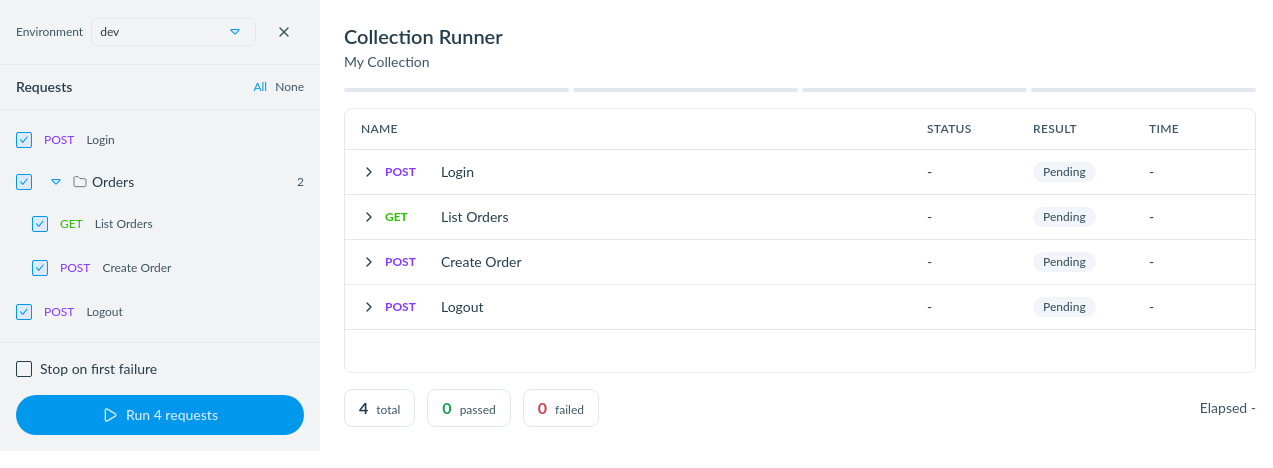
Scenario: CollectionRunner rendering › collapses and expands folder contents in the checklist
The width and height of the screenshot is (1273, 468).
Expected: the text "List Orders" is shown 2 times, left=95, top=216, right=153, bottom=231; left=441, top=207, right=508, bottom=227
Click the button named "Collapse Orders": [56, 182] box left=44, top=170, right=68, bottom=194
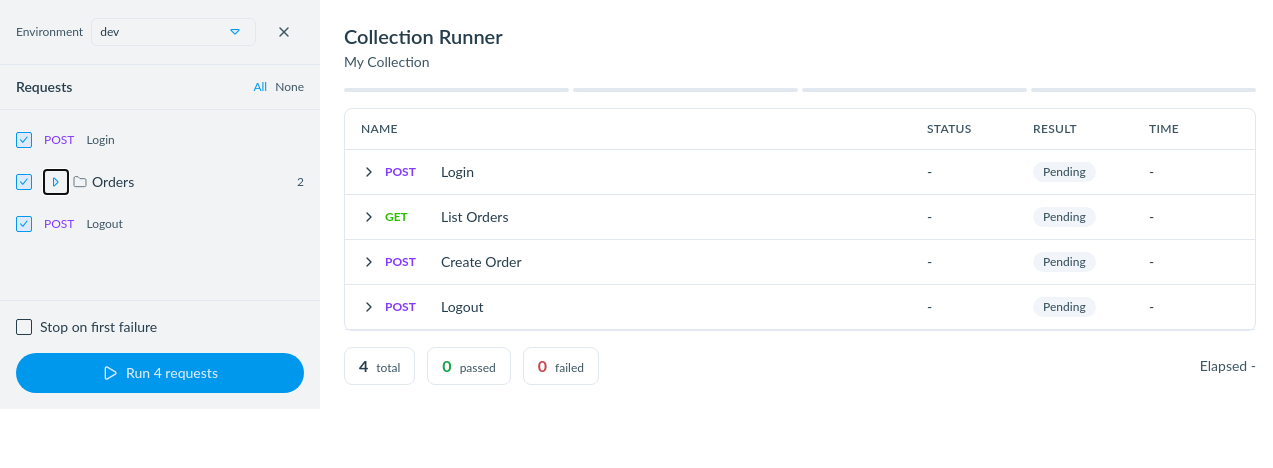
Expected: the text "List Orders" is shown once, left=441, top=207, right=508, bottom=227
Click the button named "Expand Orders": [56, 182] box left=44, top=170, right=68, bottom=194
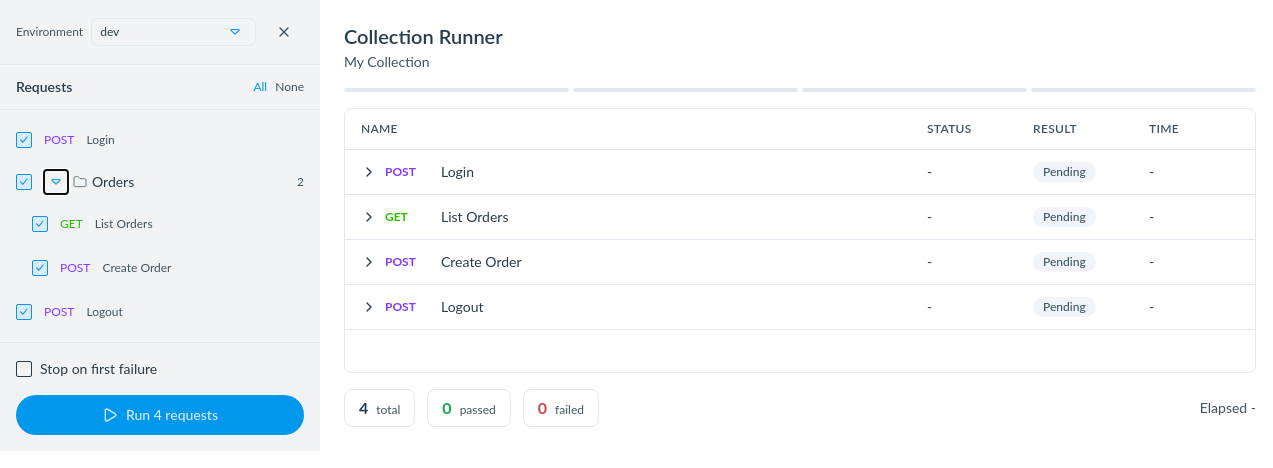
Now the text "List Orders" is shown 2 times, box left=95, top=216, right=153, bottom=231; left=441, top=207, right=508, bottom=227
